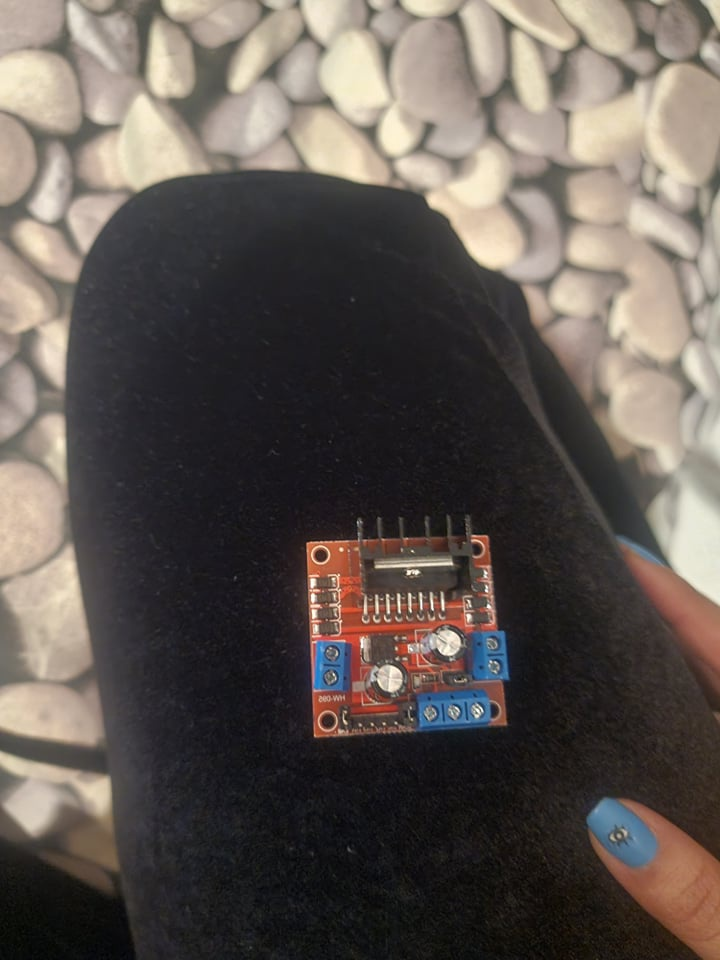MOTOR: (307, 515, 515, 738)
